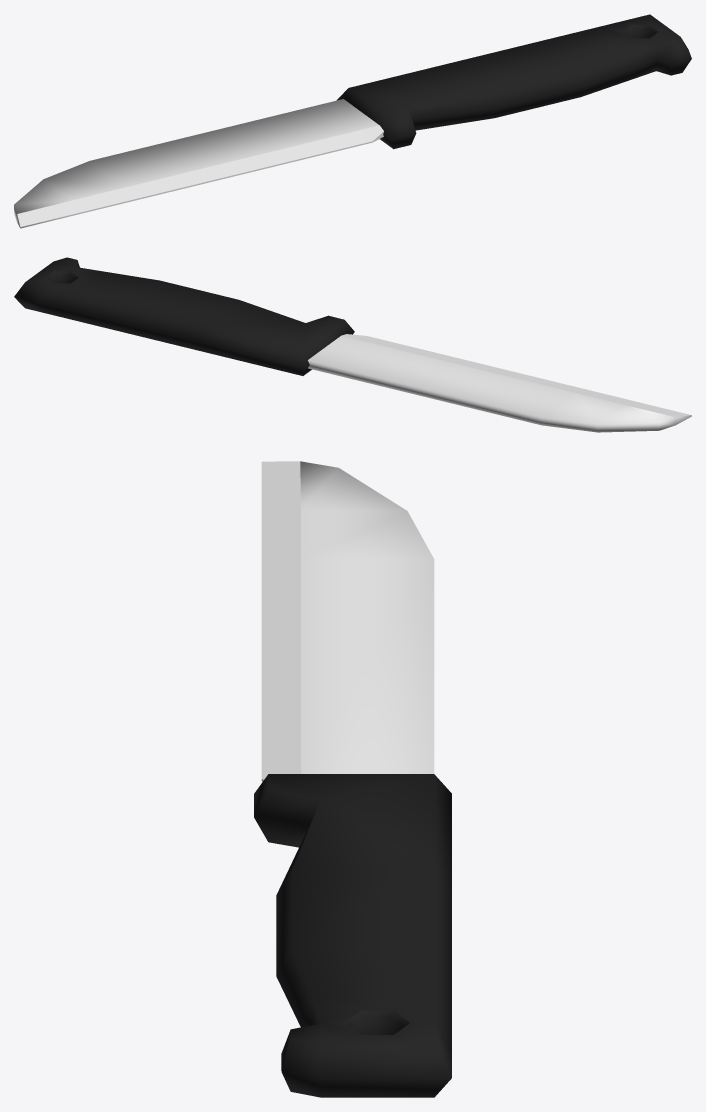
File: Knife.fbx
3 views of the same model, one above another, from view 1: azimuth 30°, elevation 25°; view 2: azimuth 150°, elevation 25°; view 3: azimuth 270°, elevation 25° (orthographic). The views are drawn at different scales.
Visible parts, largest first — view 1: Knife; view 2: Knife; view 3: Knife.
Boxes of the visible parts, left/top/right/bottom form: Knife: left=14, top=14, right=691, bottom=228; Knife: left=14, top=257, right=691, bottom=432; Knife: left=254, top=461, right=451, bottom=1097.
Bounding box in the file's own units: 13.24 × 0.5244 × 1.8.
